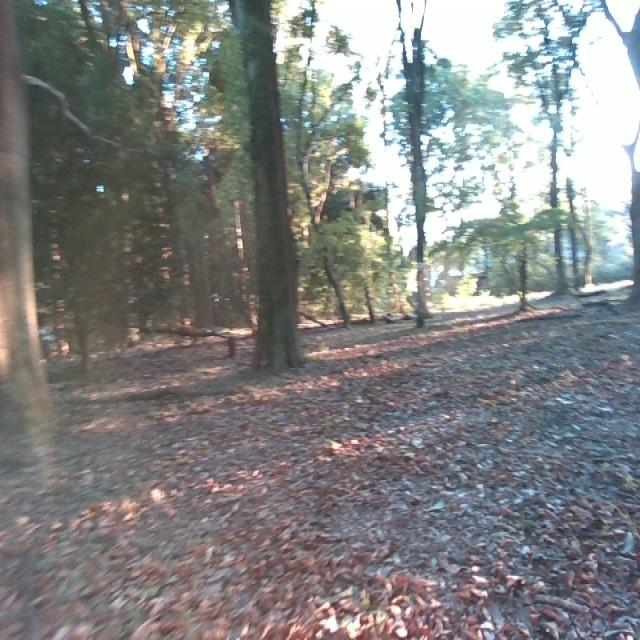tree: (225, 0, 314, 378), (0, 0, 58, 443), (548, 0, 585, 307), (400, 0, 432, 333)
